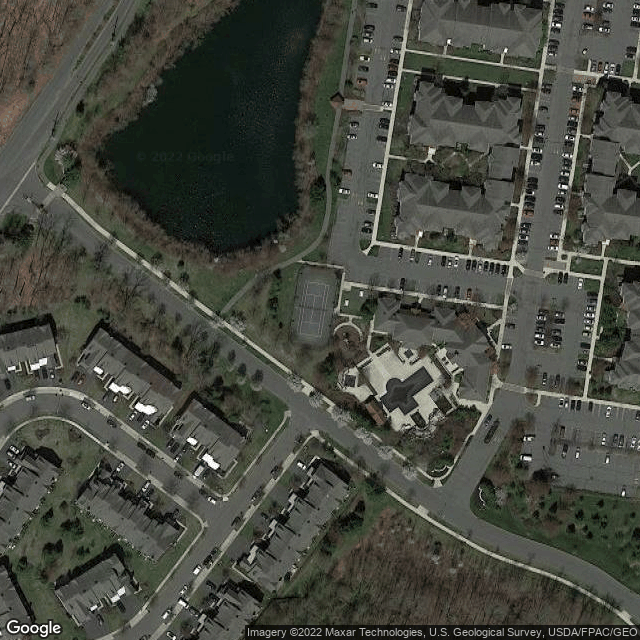Court: (297, 280, 329, 338)
